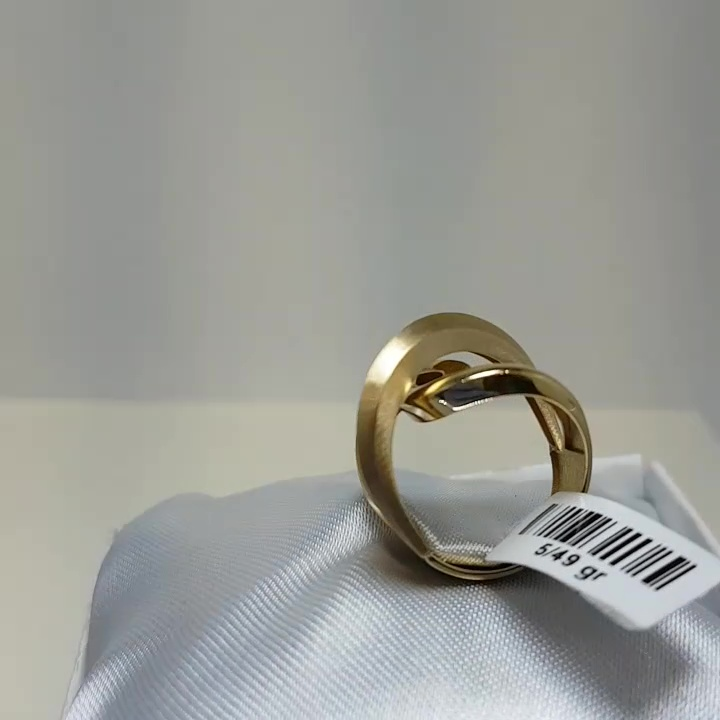Ring 3: (299, 296, 618, 614)
